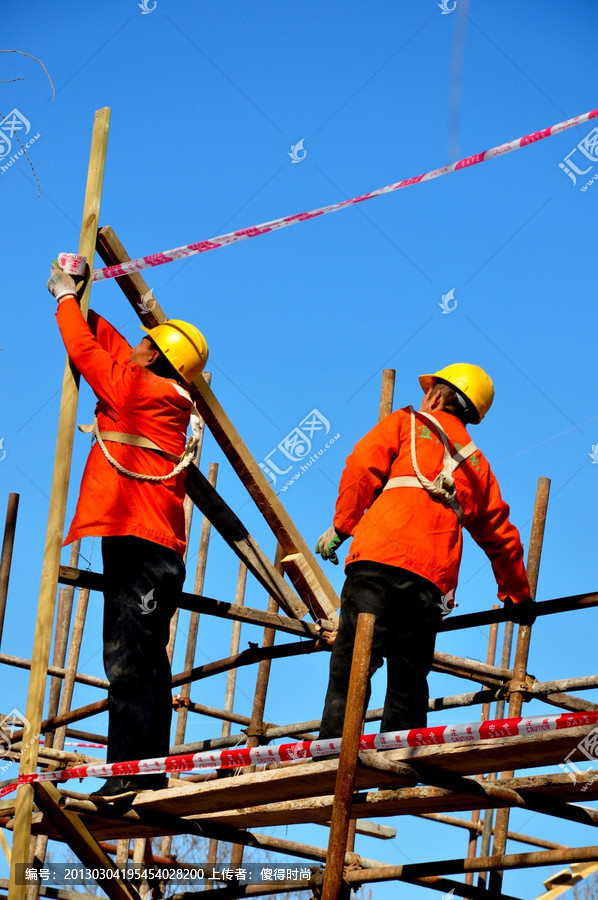safetyhat: (335, 343, 533, 747), (61, 282, 218, 783)
